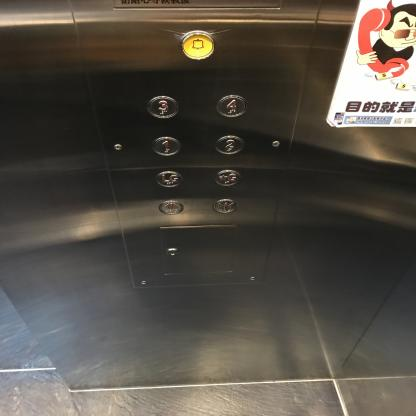1: (151, 136, 181, 156)
2: (214, 135, 244, 154)
3: (146, 95, 178, 119)
4: (216, 94, 247, 118)
LG: (155, 171, 182, 188)
alarm: (180, 30, 215, 61)
close: (213, 198, 237, 213)
open: (158, 199, 184, 215)
sG: (214, 169, 240, 186)
